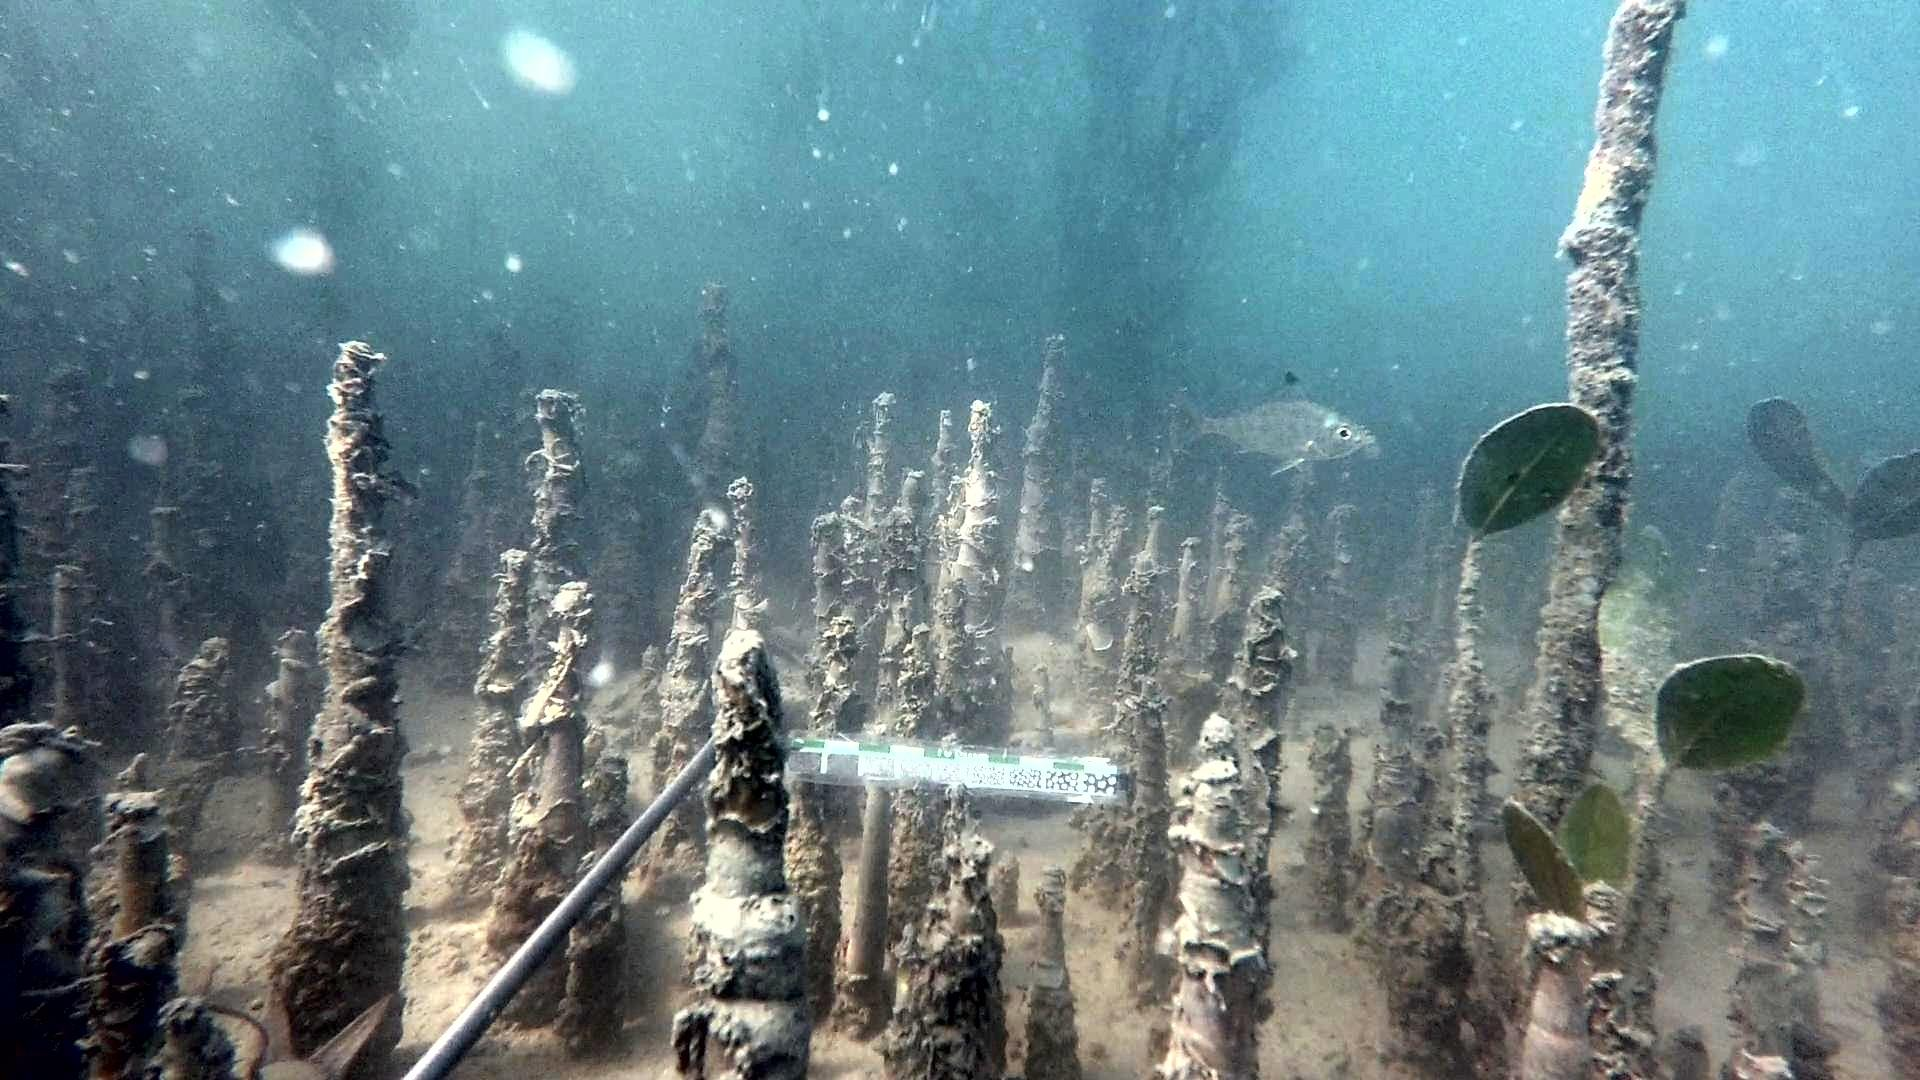gerres: (1172, 371, 1371, 479)
